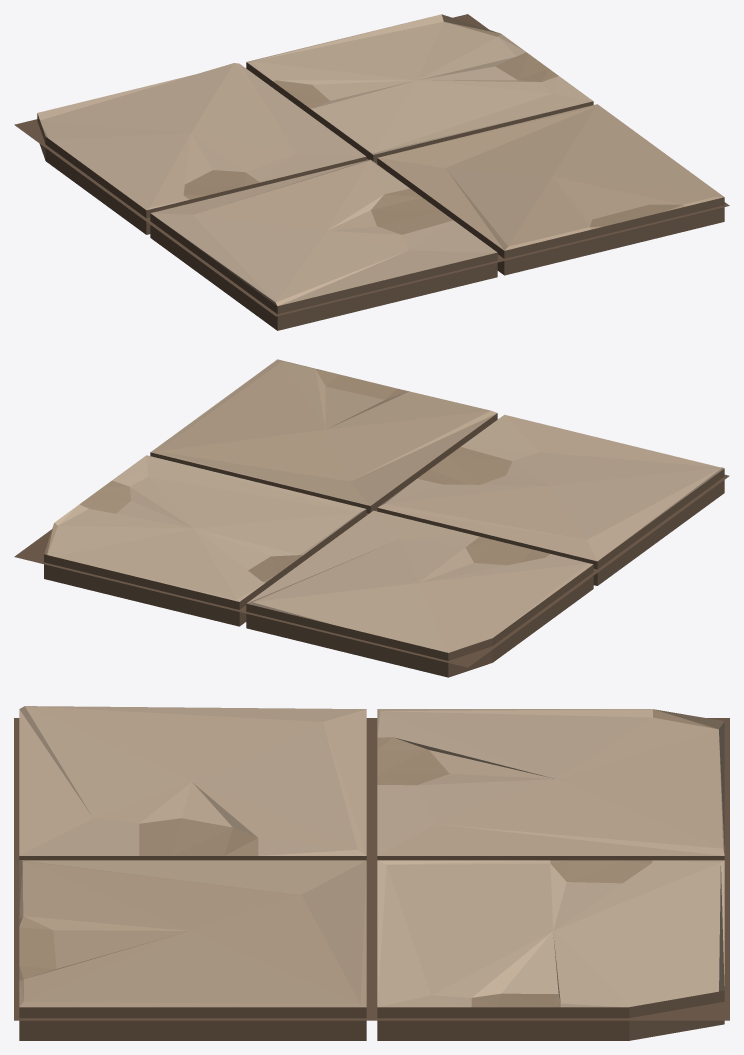
Rendered from SM_Ground_PavingTile_Rough_05.fbx.
The picture shows the model from 3 angles, top to bottom: view 1: azimuth 30°, elevation 25°; view 2: azimuth 150°, elevation 25°; view 3: azimuth 270°, elevation 25°; orthographic projection. The views are drawn at different scales.
Parts seen in each view (by area): view 1: SM_Ground_PavingTile_Rough_05; view 2: SM_Ground_PavingTile_Rough_05; view 3: SM_Ground_PavingTile_Rough_05.
Part boxes in pixels (box(x1,y1,x2,y2)): SM_Ground_PavingTile_Rough_05: box(14, 14, 729, 330); SM_Ground_PavingTile_Rough_05: box(14, 359, 729, 677); SM_Ground_PavingTile_Rough_05: box(14, 706, 729, 1040).
Bounding box in the file's own units: 1 × 0.0594 × 1.
Materials: 1 (1 with a texture image).
